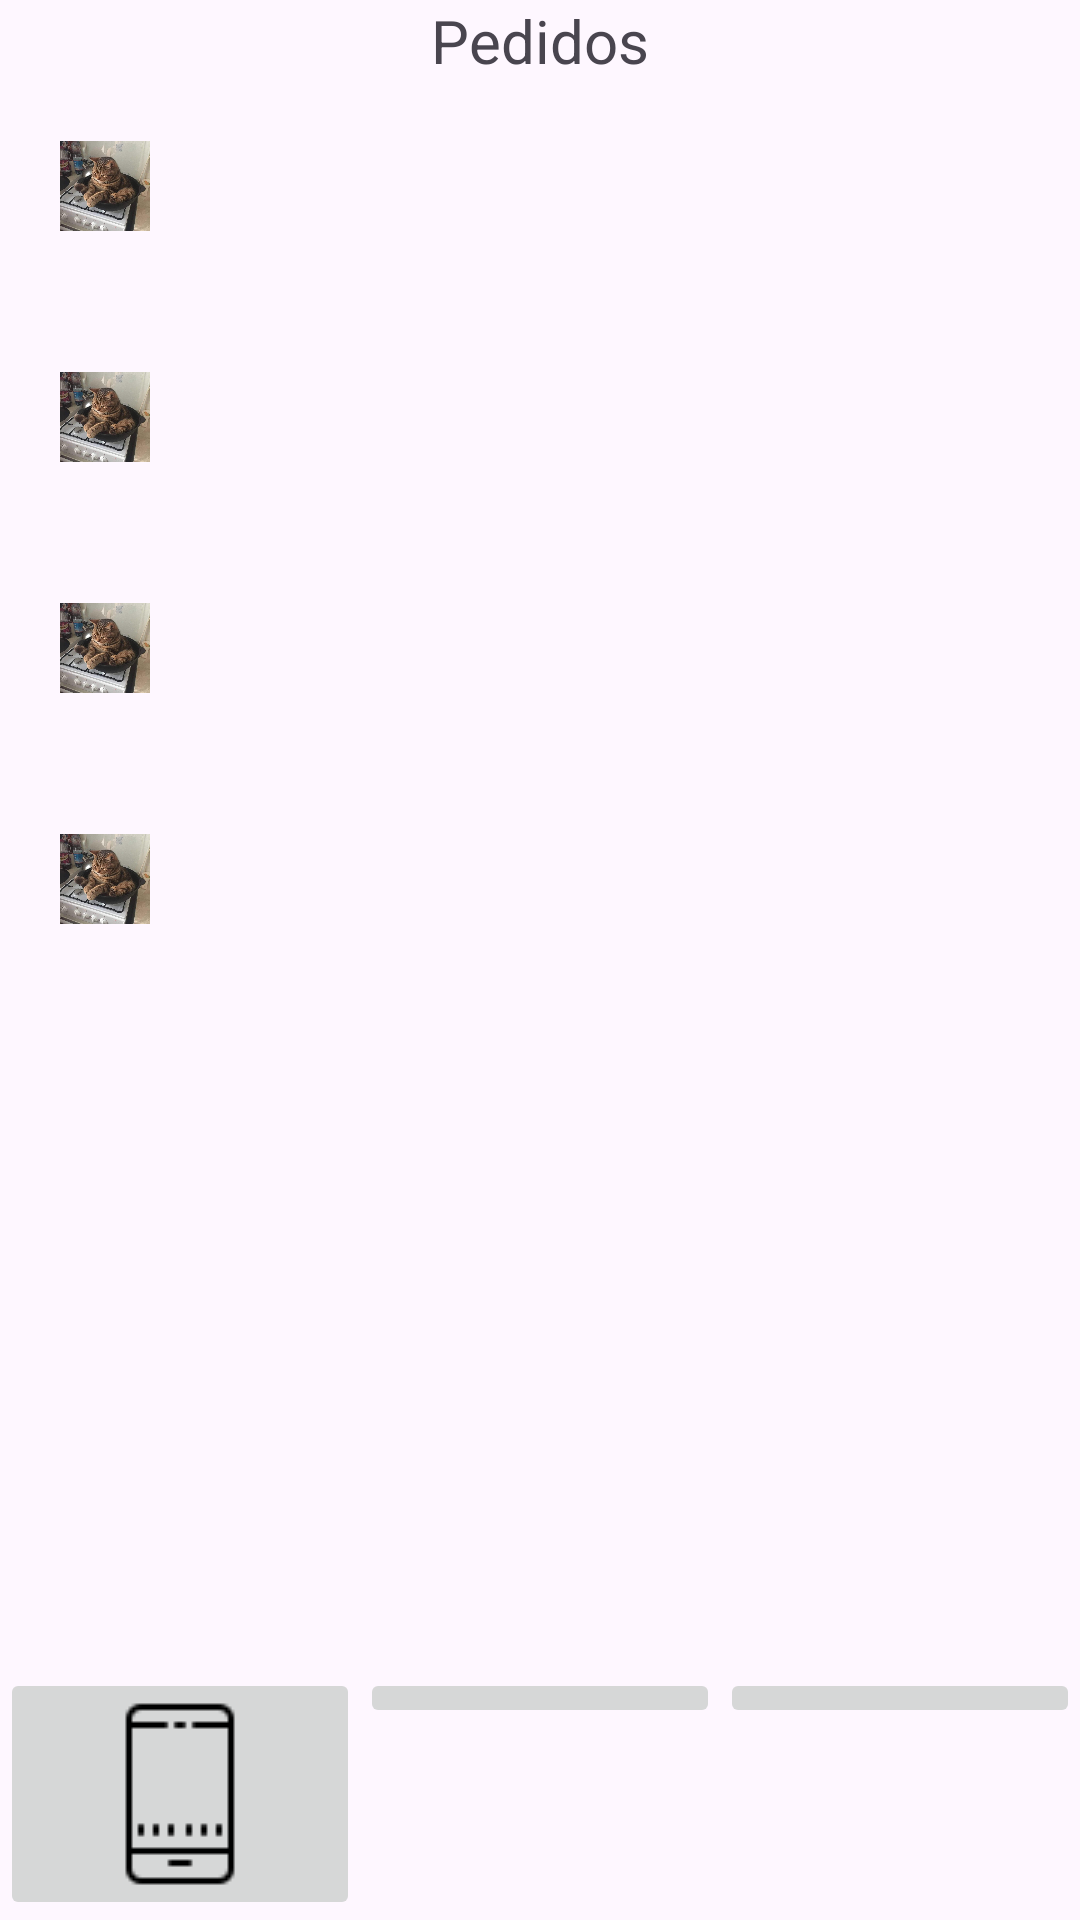

Named icons in this screenshot (1080 × 1920) and their bounding boxes, (x1, y1, x2, y2):
telefono: (12, 1686, 348, 1902)
